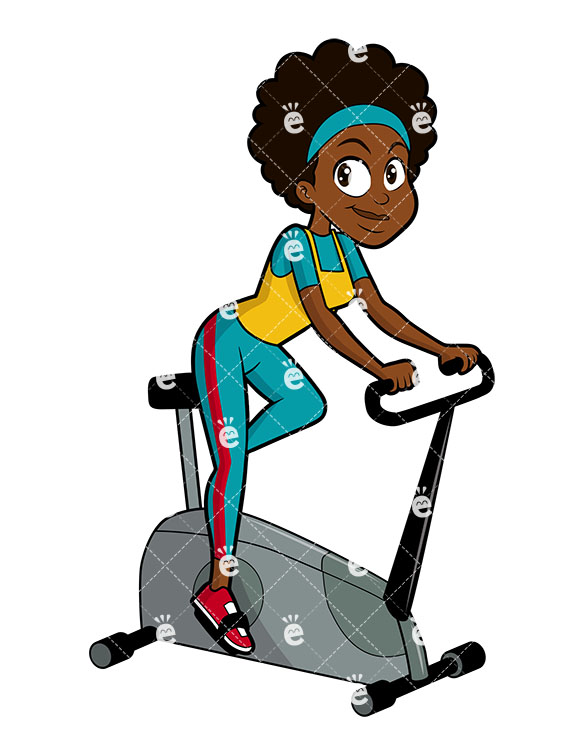gym_bike: (84, 325, 510, 716)
